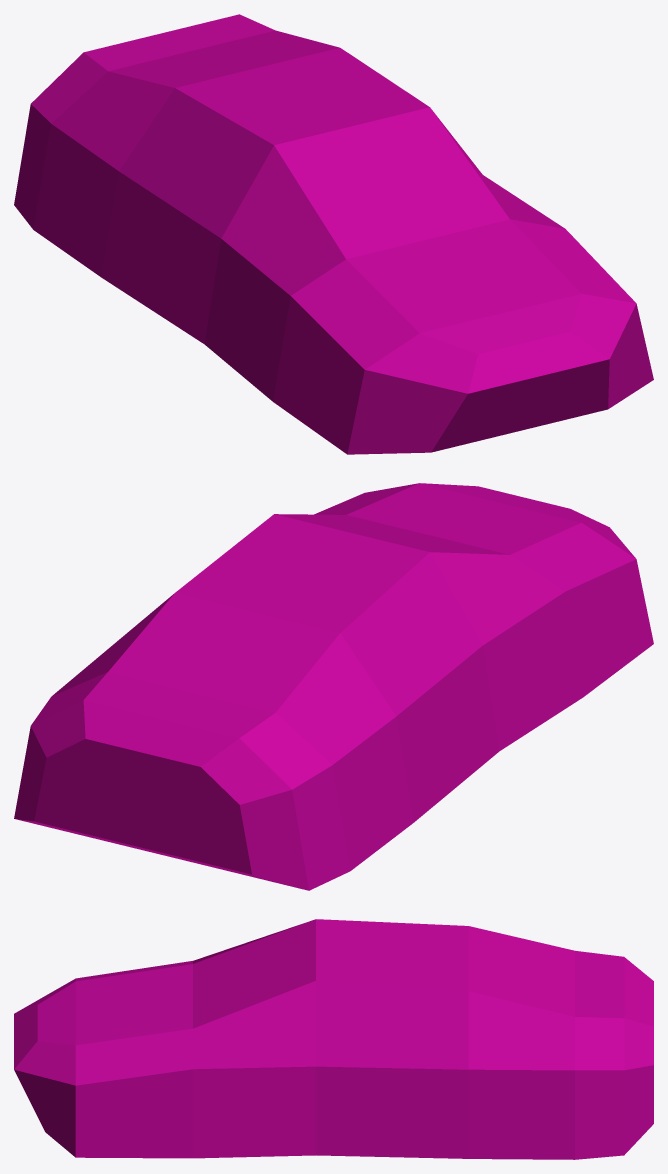
The model's file is SM_Veh_Touring_01_Collision.fbx.
3 renders of one model, top to bottom at view 1: azimuth 30°, elevation 25°; view 2: azimuth 150°, elevation 25°; view 3: azimuth 270°, elevation 25°, orthographic. The views are drawn at different scales.
Visible parts, largest first — view 1: SM_Veh_Touring_01_Collision; view 2: SM_Veh_Touring_01_Collision; view 3: SM_Veh_Touring_01_Collision.
Boxes of the visible parts, x1,y1,x2,y2 form: SM_Veh_Touring_01_Collision: [14, 14, 653, 454]; SM_Veh_Touring_01_Collision: [14, 483, 653, 890]; SM_Veh_Touring_01_Collision: [14, 919, 653, 1159].
Bounding box in the file's own units: 233 × 128 × 503.
